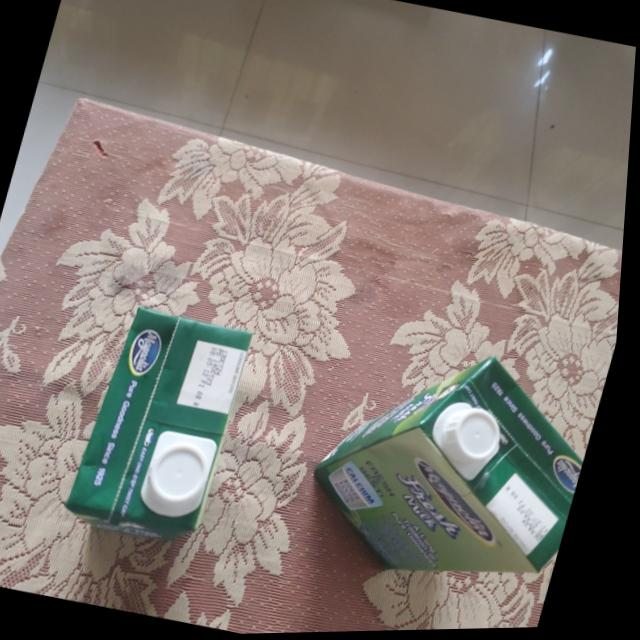milk: (293, 326, 614, 605), (68, 296, 267, 545)
